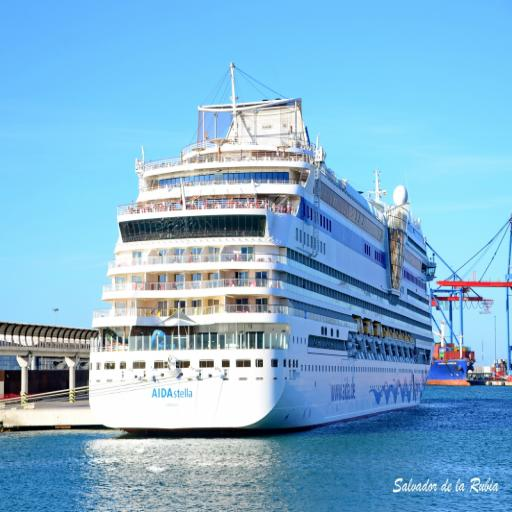cruises: (88, 60, 438, 447)
